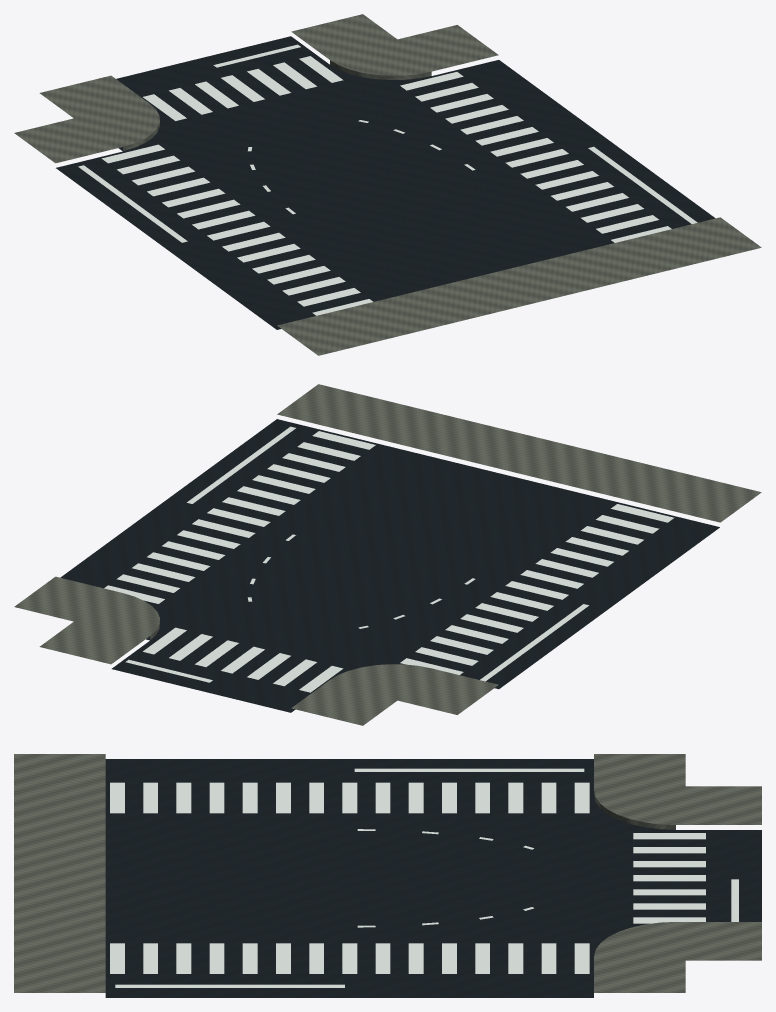
The model's file is junc_tee_4x2_LOD0.glb.
3 renders of one model, top to bottom at view 1: azimuth 30°, elevation 25°; view 2: azimuth 150°, elevation 25°; view 3: azimuth 270°, elevation 25°, orthographic. The views are drawn at different scales.
Visible parts, largest first — view 1: junc_tee_4x2__surface, junc_tee_4x2__rounded_corner_curb, junc_tee_4x2__crosswalk_paint, junc_tee_4x2__stop_line_paint; view 2: junc_tee_4x2__surface, junc_tee_4x2__rounded_corner_curb, junc_tee_4x2__crosswalk_paint, junc_tee_4x2__stop_line_paint; view 3: junc_tee_4x2__surface, junc_tee_4x2__rounded_corner_curb, junc_tee_4x2__crosswalk_paint, junc_tee_4x2__stop_line_paint.
Boxes of the visible parts, x1=… form: junc_tee_4x2__surface: x1=56, y1=36, x2=715, y2=329; junc_tee_4x2__rounded_corner_curb: x1=14, y1=14, x2=761, y2=355; junc_tee_4x2__crosswalk_paint: x1=101, y1=56, x2=671, y2=315; junc_tee_4x2__stop_line_paint: x1=78, y1=44, x2=697, y2=242; junc_tee_4x2__surface: x1=60, y1=419, x2=719, y2=712; junc_tee_4x2__rounded_corner_curb: x1=14, y1=384, x2=761, y2=725; junc_tee_4x2__crosswalk_paint: x1=104, y1=431, x2=674, y2=692; junc_tee_4x2__stop_line_paint: x1=125, y1=426, x2=588, y2=682; junc_tee_4x2__surface: x1=105, y1=759, x2=761, y2=997; junc_tee_4x2__rounded_corner_curb: x1=14, y1=754, x2=761, y2=992; junc_tee_4x2__crosswalk_paint: x1=110, y1=782, x2=705, y2=973; junc_tee_4x2__stop_line_paint: x1=115, y1=768, x2=738, y2=987.
Size of the model in its own units: 14.8 by 0.145 by 19.6.
Materials: 4 (3 with a texture image).
